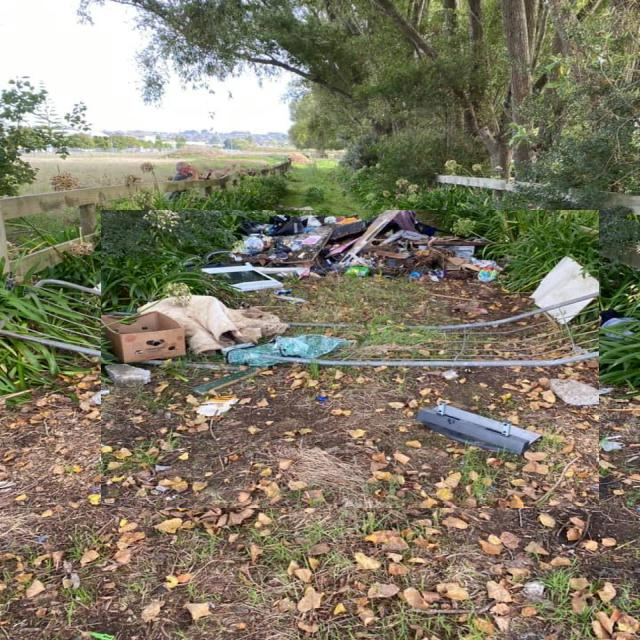dumping: (101, 210, 599, 508)
